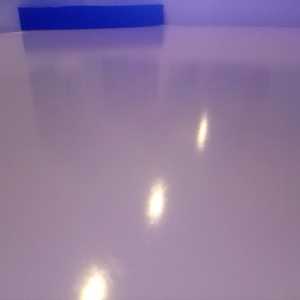zone: (18, 6, 163, 30)
